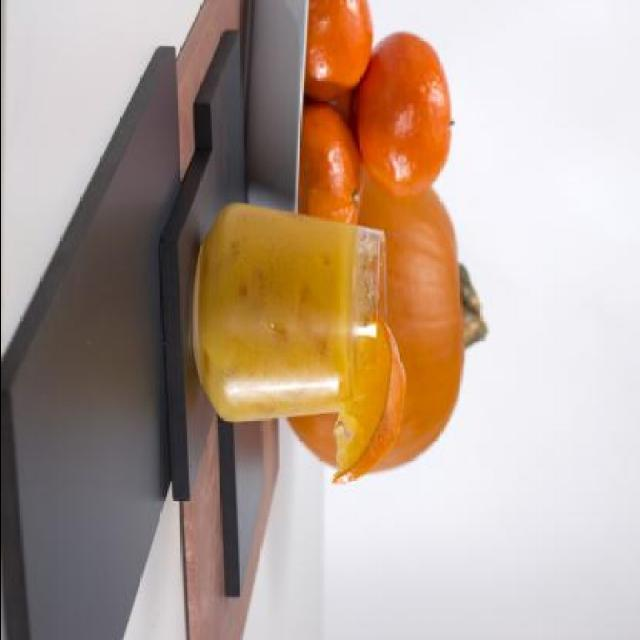Orange: (302, 314, 406, 483), (354, 32, 456, 194), (300, 114, 364, 243), (309, 0, 380, 95)
